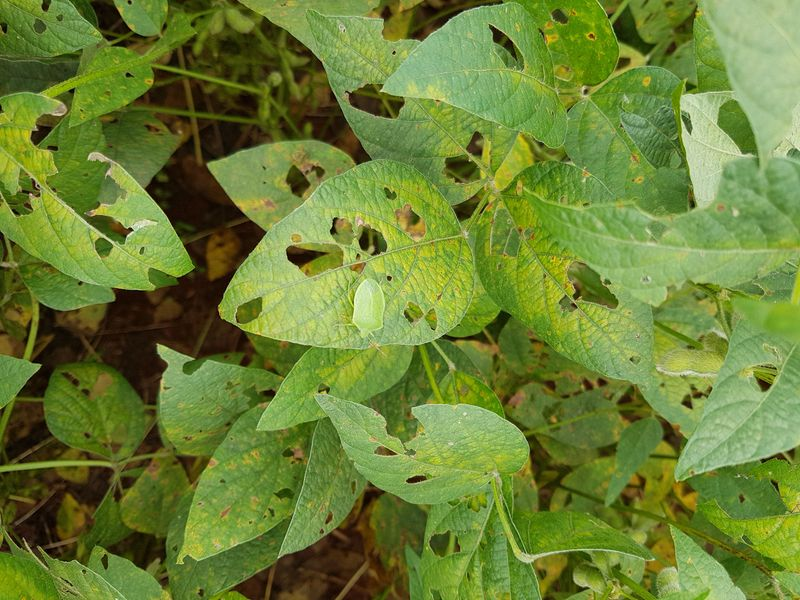Nezara_viridula_adulto: (330, 269, 398, 344)
